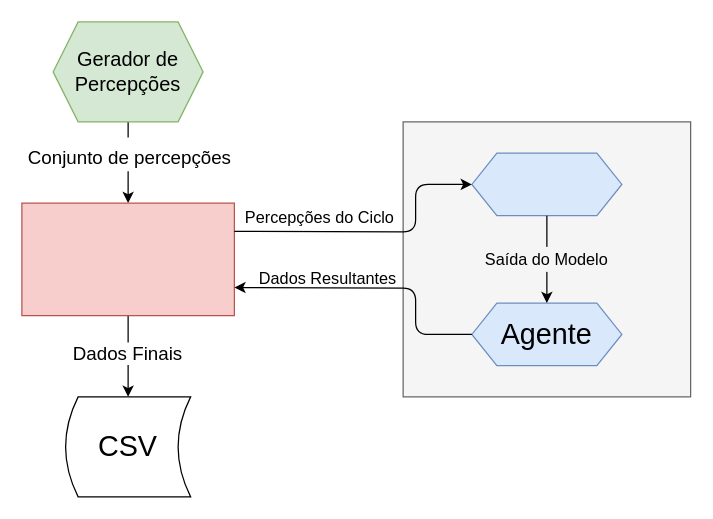
This 713x519 diagram has some shape labels left out. Here are the shapes that lost their labels. From the top down, the centre of each, then its label:
At pixel 546 184: "MRP".
At pixel 127 259: "Simulador".
